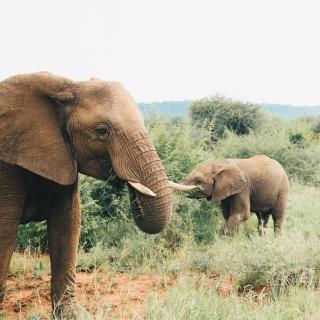Elephant: (0, 69, 198, 320), (168, 153, 291, 250)
